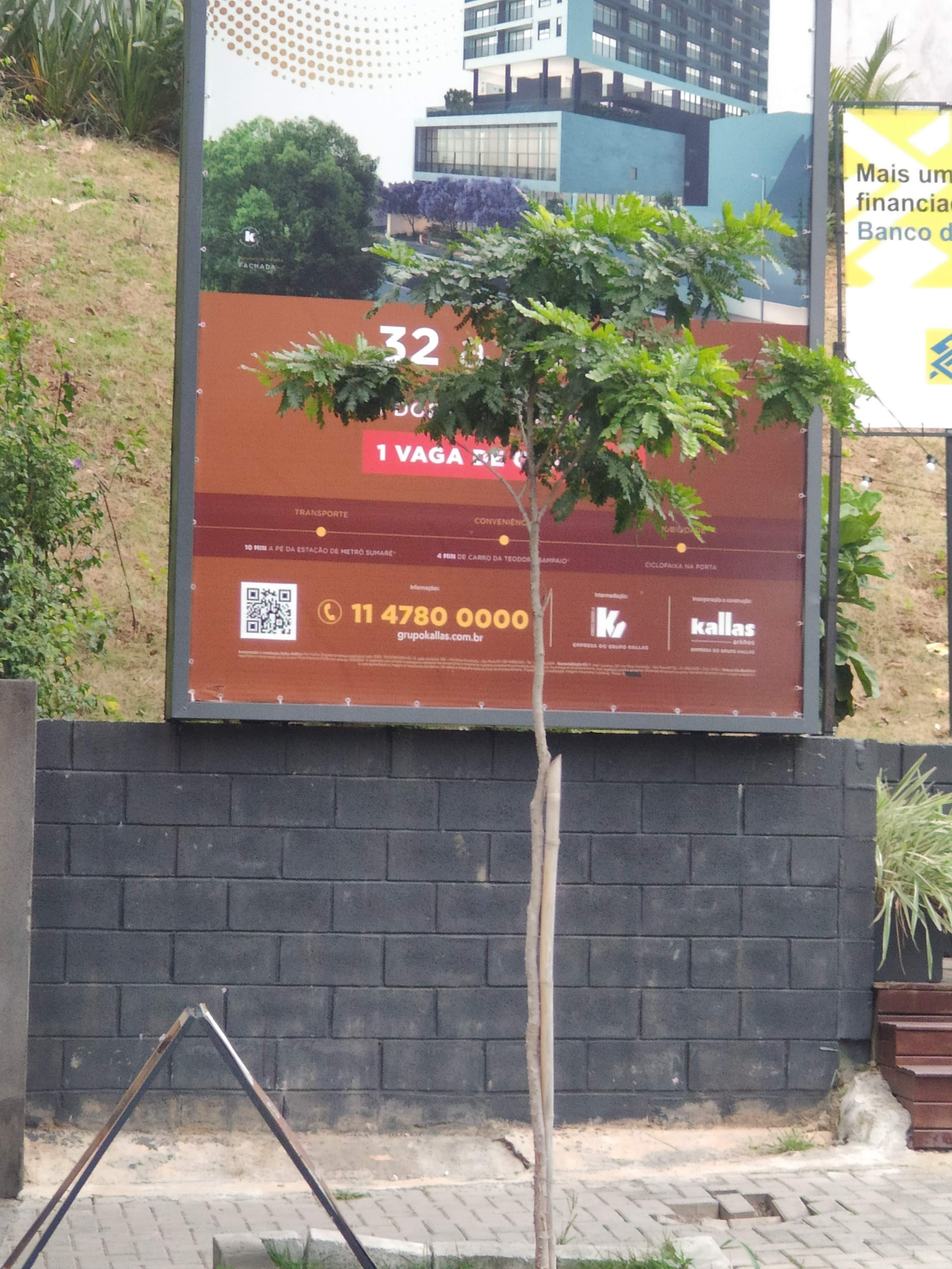QR-CODE: (246, 588, 291, 634)
